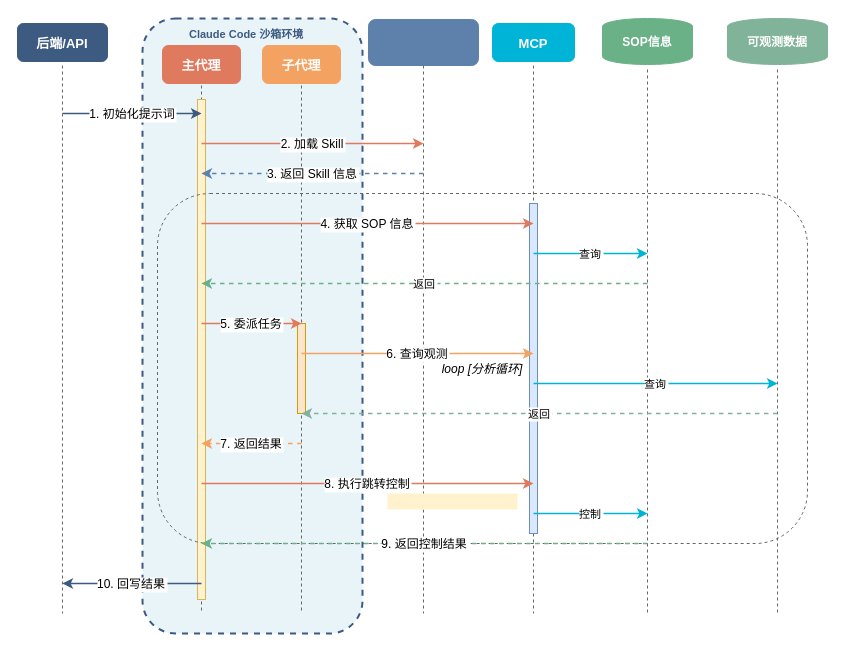
The diagram is 845 pixels wide and 651 high, and some of its shapes have lost their labels. Each missing label, with the centre of its shape:
Claude Code Skills: (x=423, y=42)
navigate / escape / conclude: (x=452, y=501)
